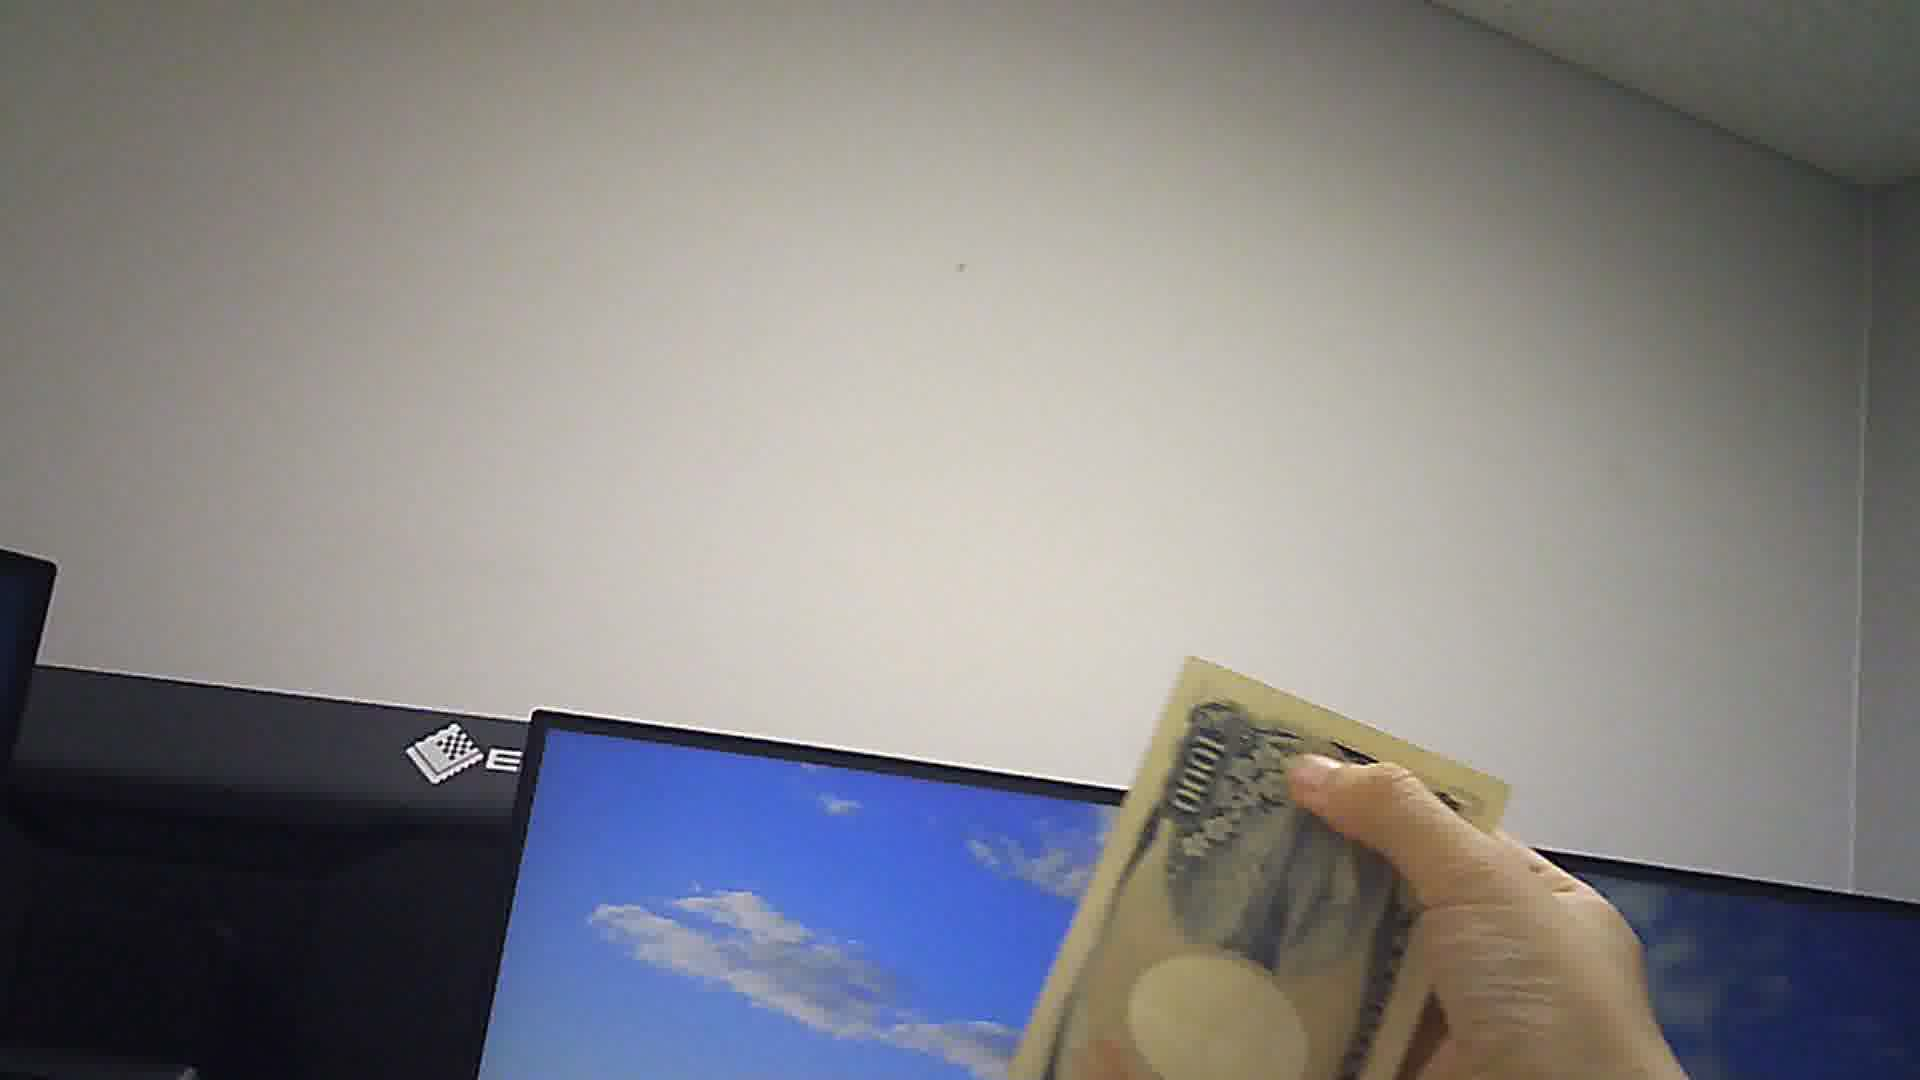1,000 Yen: (1040, 637, 1487, 1079)
